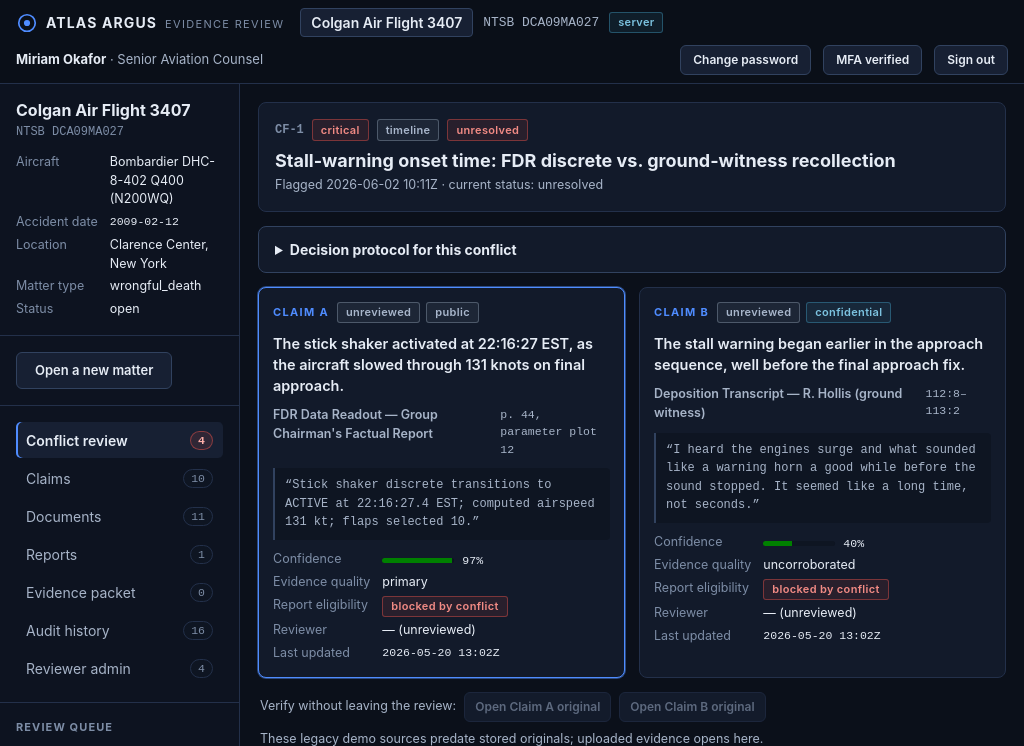
Test: server mode › opens the Claims ledger when a report citation has no related conflict
The width and height of the screenshot is (1024, 746).
Click the button "Reports 1".
click(120, 554)  # box [16,536,223,572]
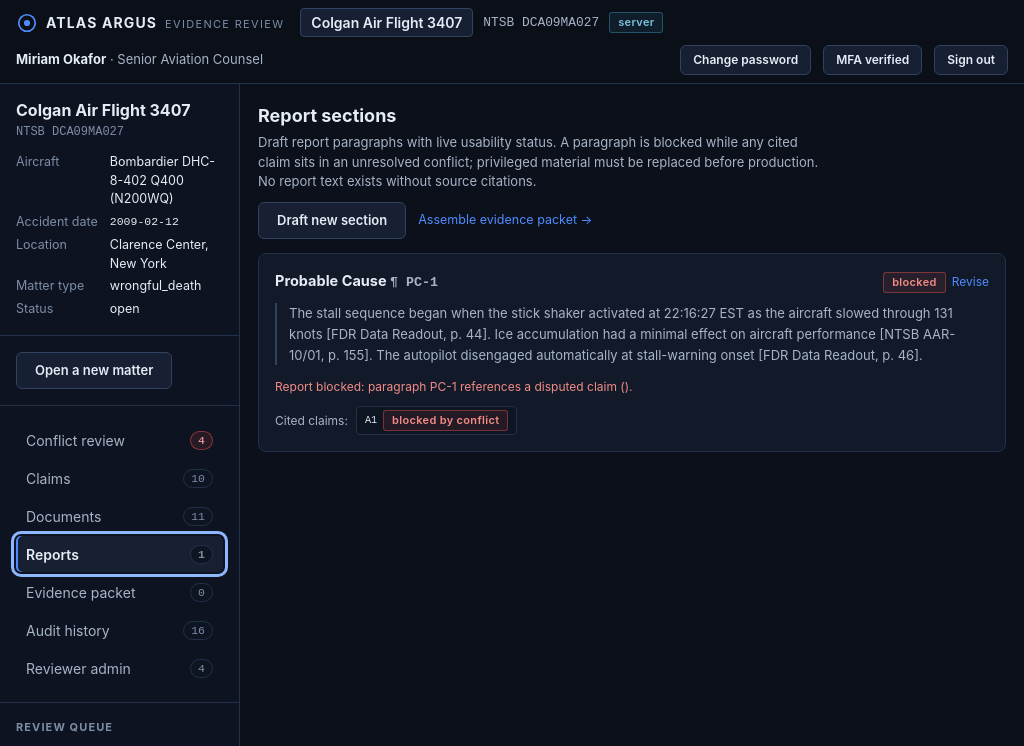
Click the button titled "The stick shaker activated at 22:16:27 EST, as the aircraft slowed through 131 knots on final approach.".
click(437, 421)  # box [356,406,517,435]
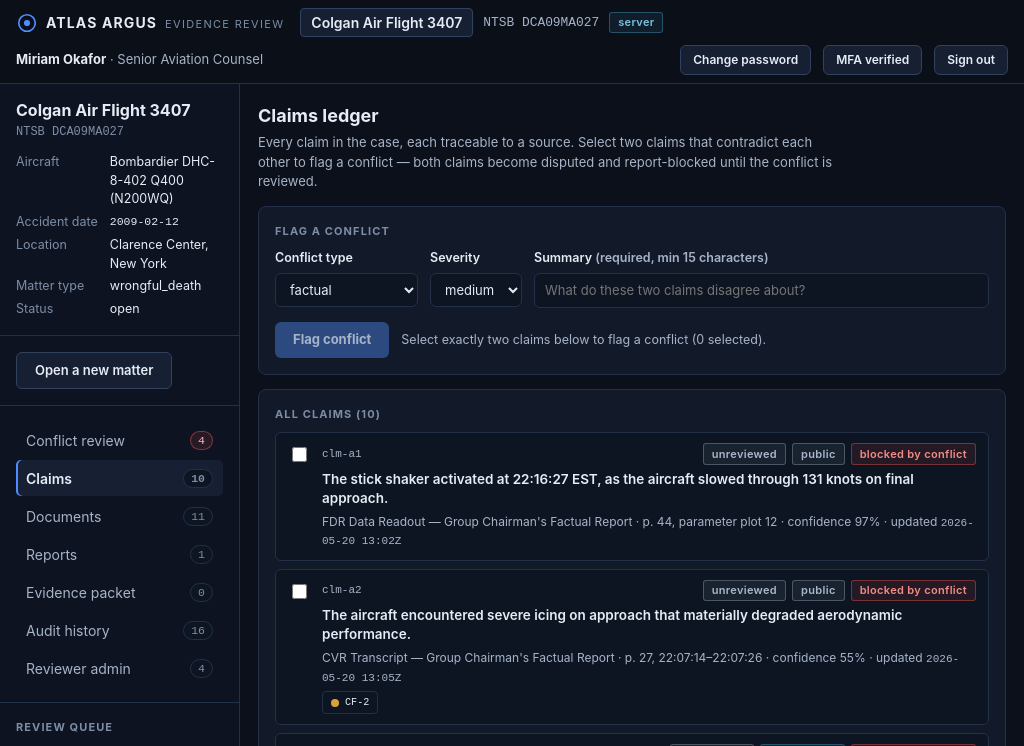
Now the heading "Claims ledger" is shown, box [258,105,379,126]
